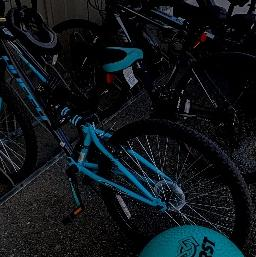algae: (129, 225, 256, 257)
